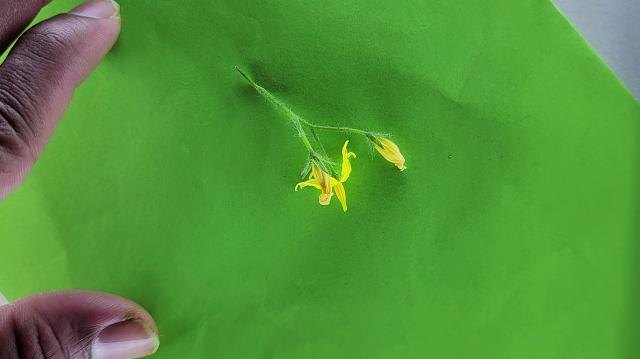Anthesis: (293, 140, 355, 211), (368, 130, 414, 176)
